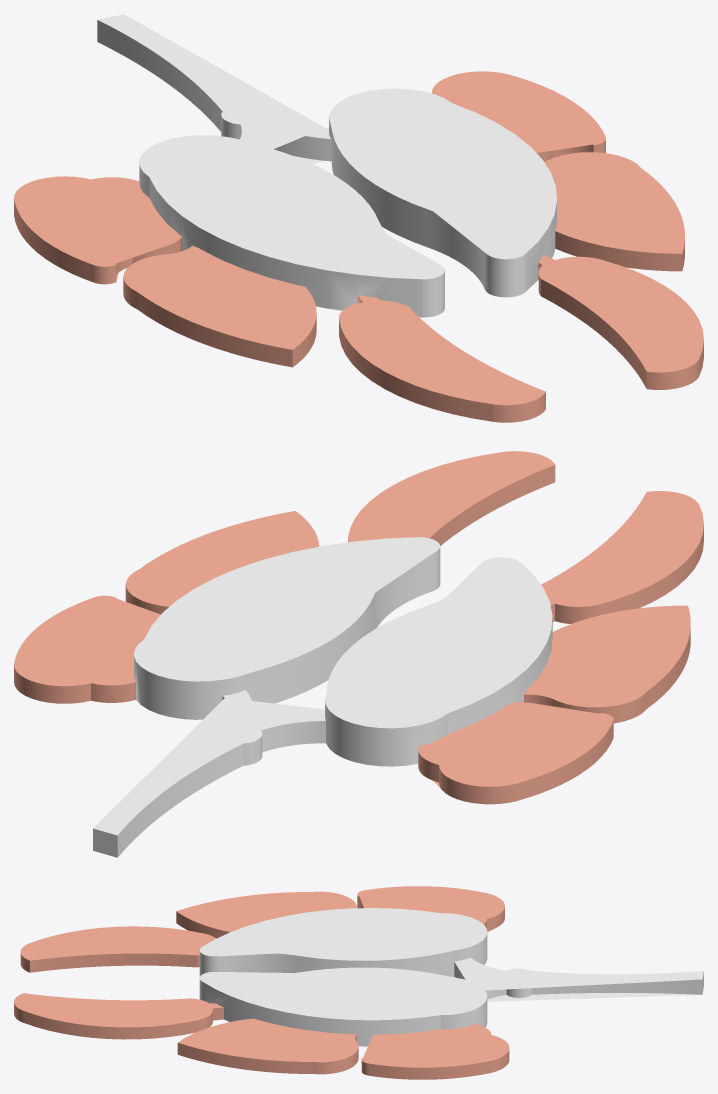
File: paru-paru burung.fbx
3 renders of one model, top to bottom at view 1: azimuth 30°, elevation 25°; view 2: azimuth 150°, elevation 25°; view 3: azimuth 270°, elevation 25°, orthographic. The views are drawn at different scales.
Parts seen in each view (by area): view 1: Group1; view 2: Group1; view 3: Group1.
Boxes of the visible parts, bbox=[...] form: Group1: bbox=[14, 14, 703, 422]; Group1: bbox=[14, 451, 703, 857]; Group1: bbox=[14, 886, 703, 1079].
Size of the model in its own units: 739 by 50 by 1187.
